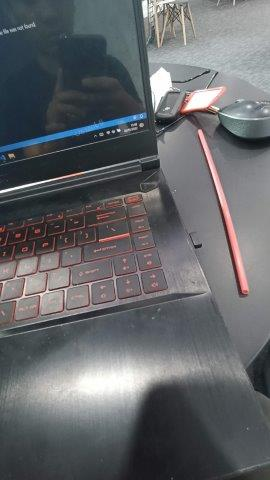sedotan: (198, 129, 248, 294)
